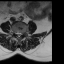CCS_normal: (18, 30, 19, 39)
LFS_stenosis: (21, 30, 23, 37)
LLS_normal: (19, 30, 21, 37)
RFS_normal: (14, 29, 16, 35)
RLS_normal: (16, 30, 18, 37)
